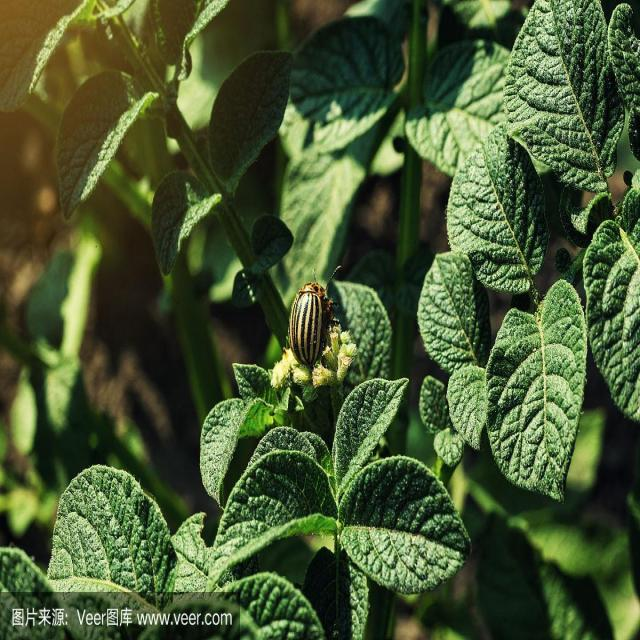ShuCaiHuaBanChong-Grown-: (277, 266, 338, 377)
